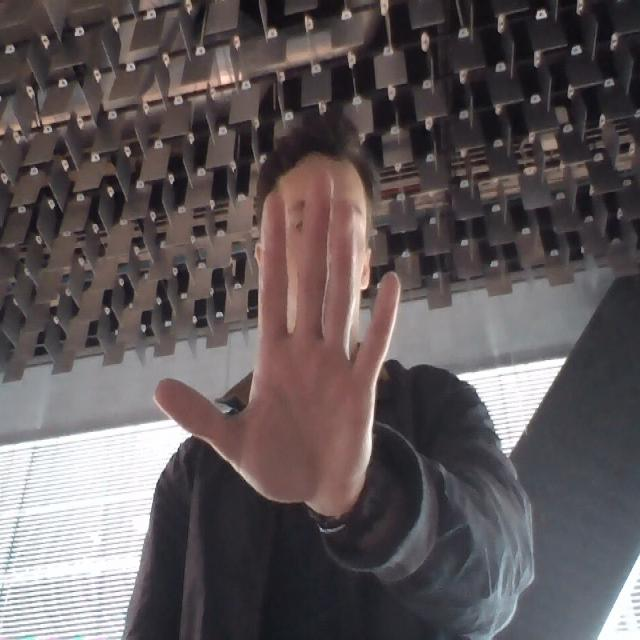backward: (143, 169, 414, 521)
